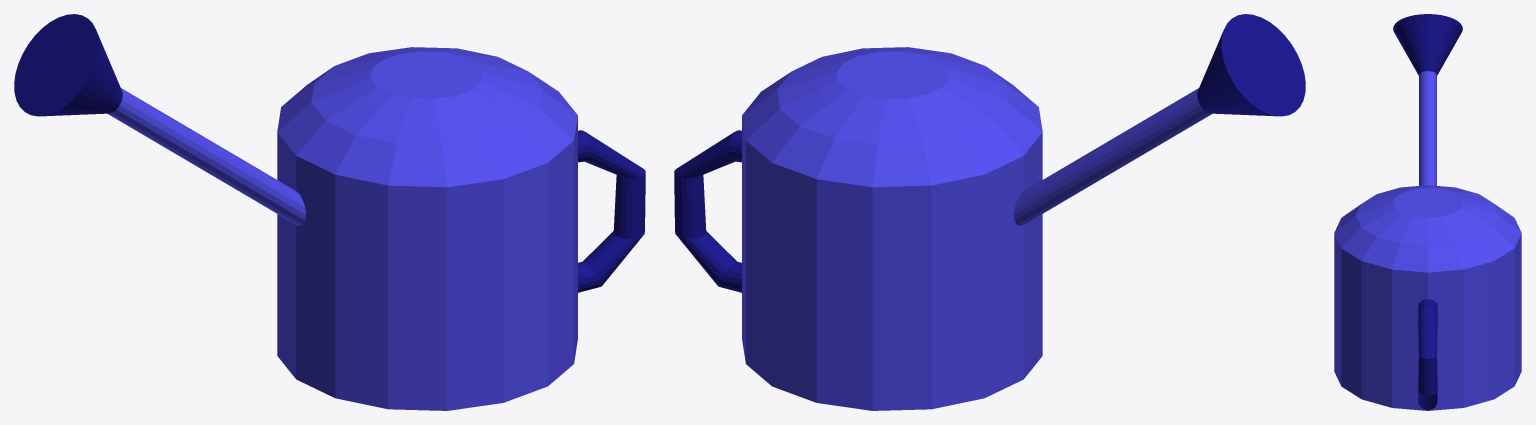
File: CollectWater.fbx
3 views of the same model, side by side, from view 1: azimuth 30°, elevation 25°; view 2: azimuth 150°, elevation 25°; view 3: azimuth 270°, elevation 25° (orthographic). The views are drawn at different scales.
Visible parts, largest first — view 1: CollectWater; view 2: CollectWater; view 3: CollectWater.
Boxes of the visible parts, x1,y1,x2,y2 form: CollectWater: (14,14,645,410); CollectWater: (674,14,1305,410); CollectWater: (1334,14,1521,410).
Size of the model in its own units: 138 by 87.95 by 58.68.
